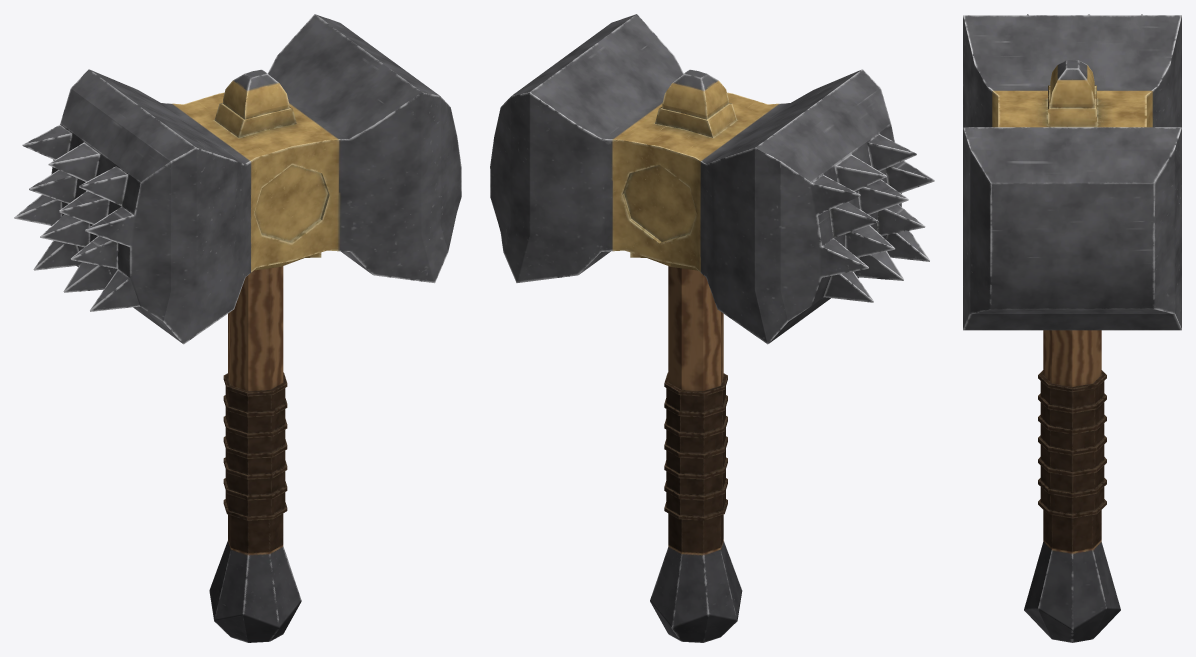
The picture shows the model from 3 angles, left to right: view 1: azimuth 30°, elevation 25°; view 2: azimuth 150°, elevation 25°; view 3: azimuth 270°, elevation 25°; orthographic projection.
Visible parts, largest first — view 1: Hammer_Game; view 2: Hammer_Game; view 3: Hammer_Game.
Part boxes in pixels (bbox=[...]): Hammer_Game: bbox=[14, 14, 461, 642]; Hammer_Game: bbox=[490, 14, 934, 642]; Hammer_Game: bbox=[963, 14, 1181, 642].
Bounding box in the file's own units: 0.5591 × 0.8 × 0.2797.
1 material, 1 textured.
